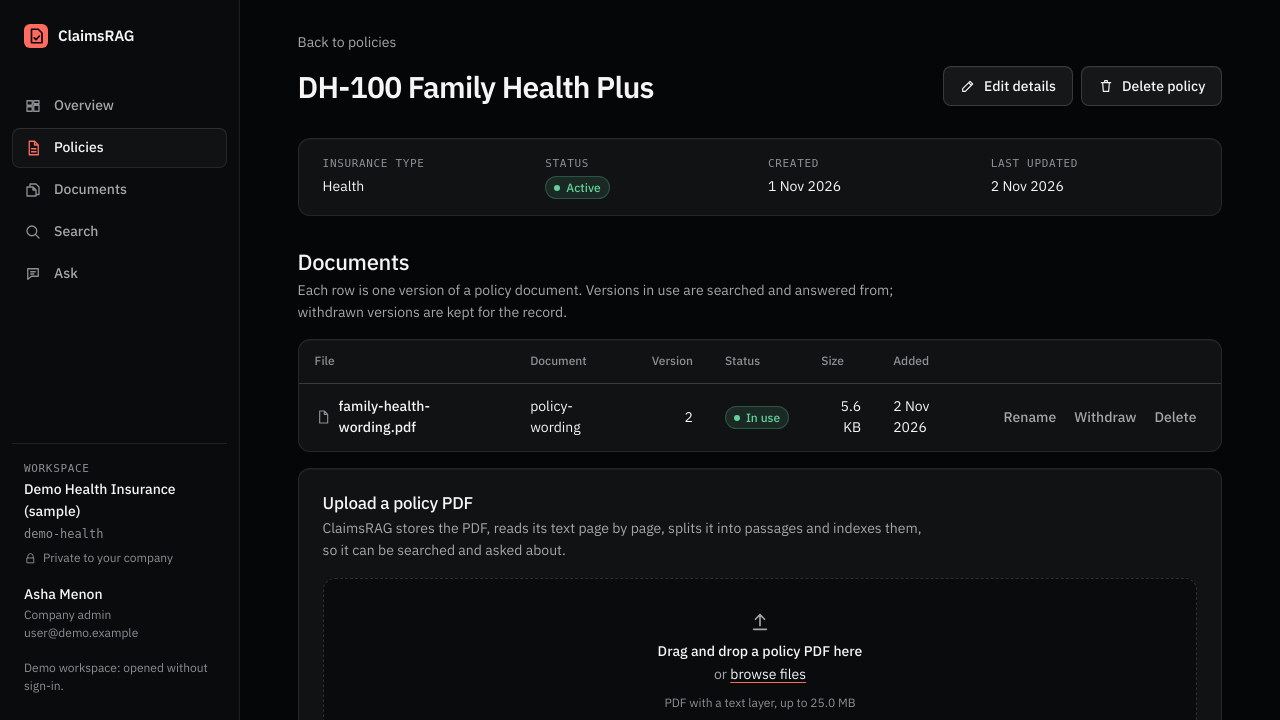
it: policy details › explains why an indexed document can't be deleted
Step 1. Click the button named "Delete family-health-wording.pdf" → (1175, 418), box [1146,402,1205,434]
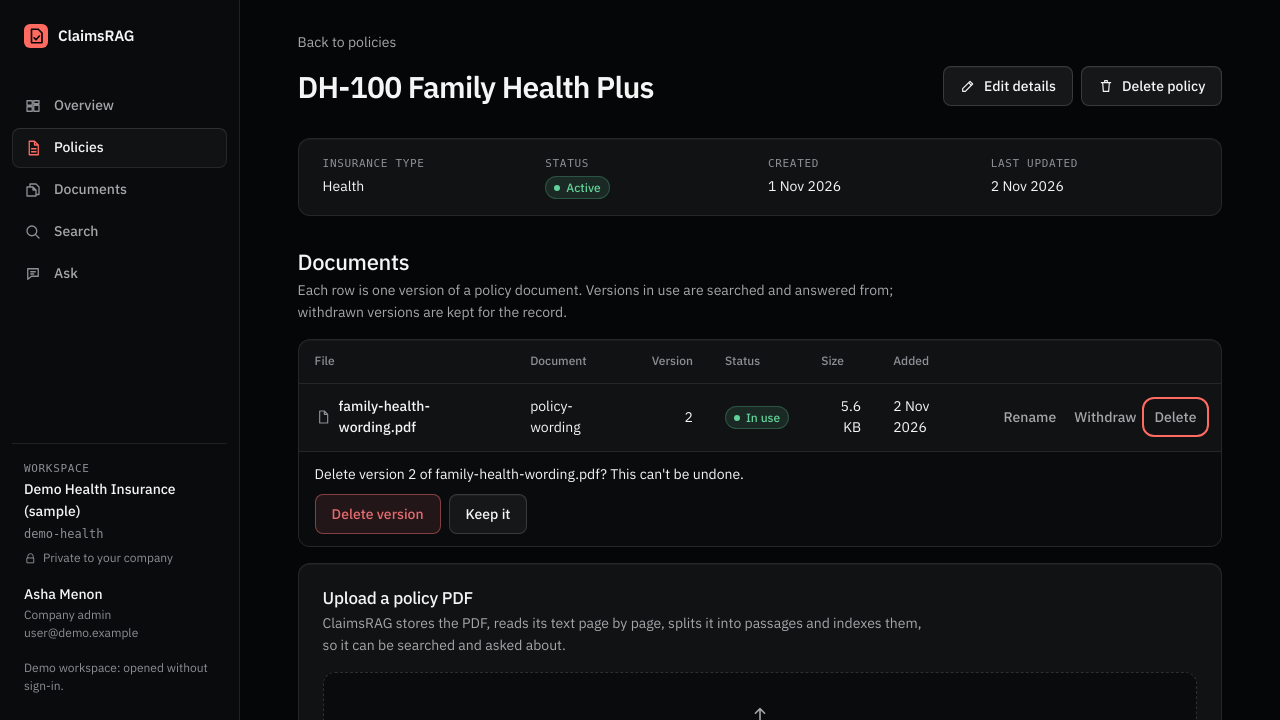
Step 2. Click the button "Delete version" → (378, 514), box [315,494,441,534]
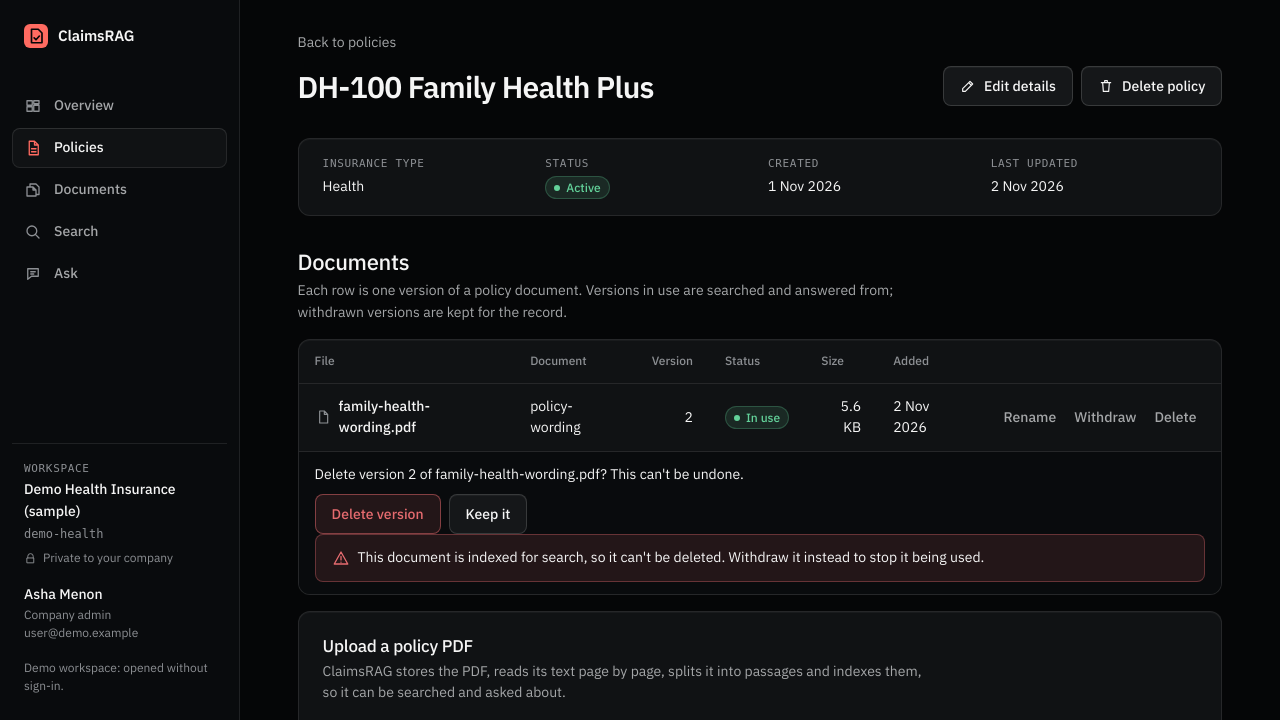
Expected: the message shows "Withdraw it instead", [358,548,984,566]
